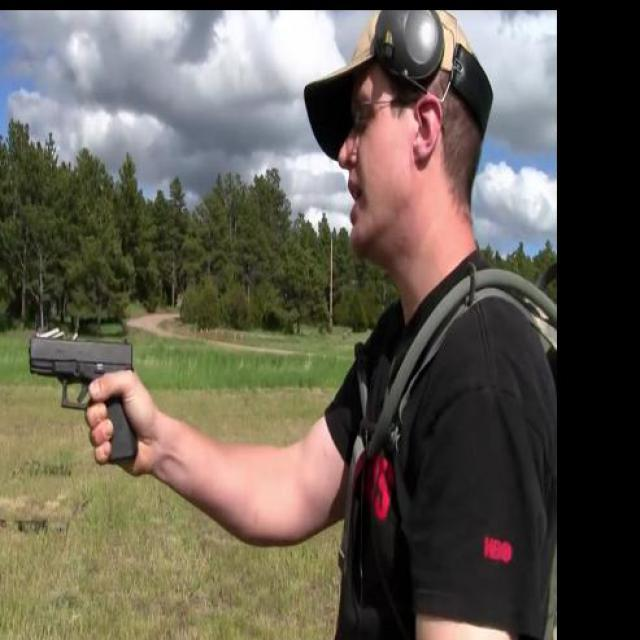Gun: (26, 333, 140, 465)
